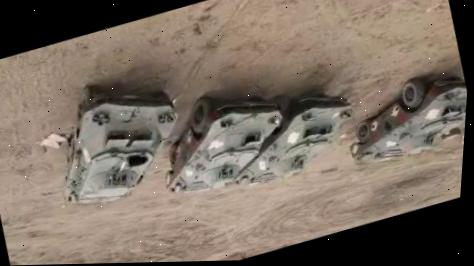tank: (37, 60, 198, 215), (143, 74, 300, 205), (208, 74, 368, 195), (334, 63, 469, 172)
